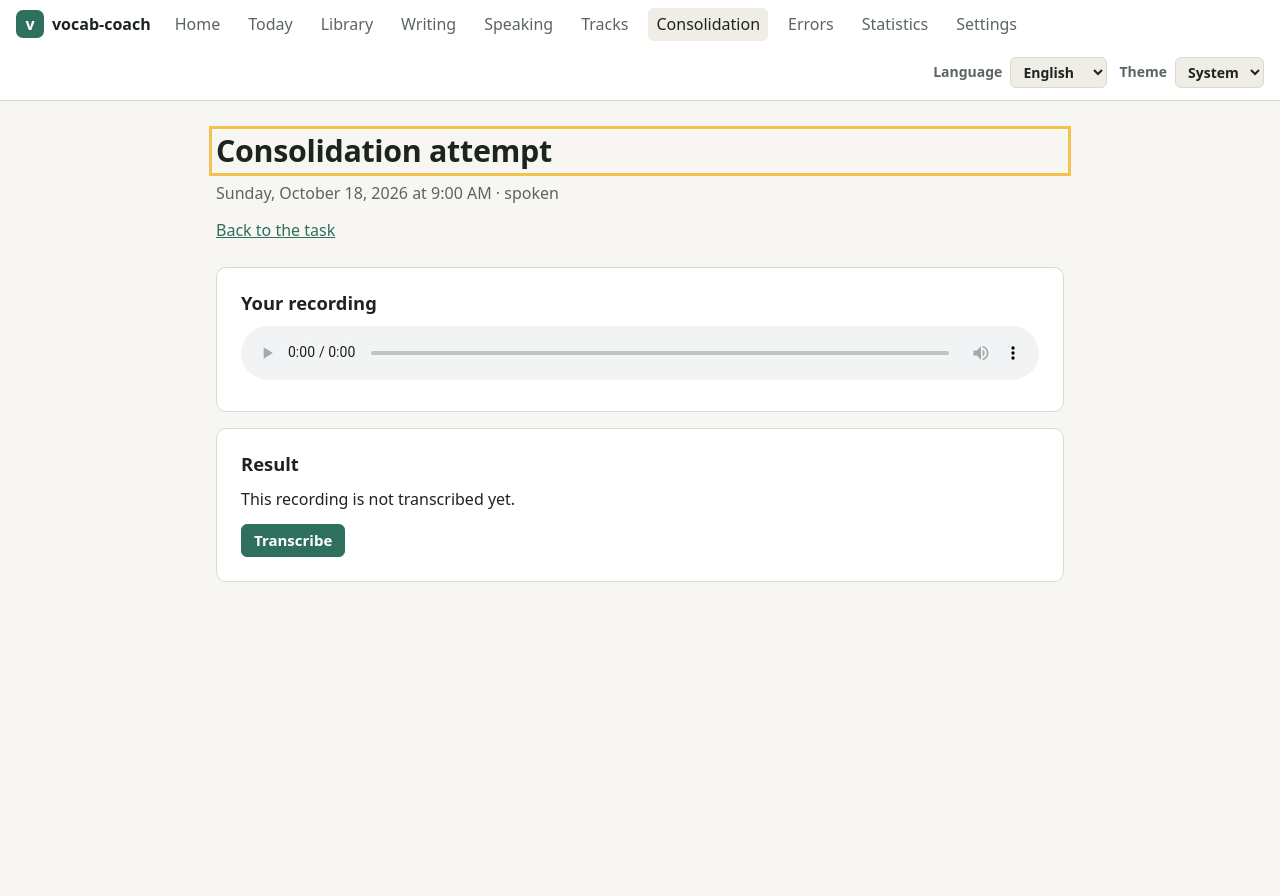
Test: Consolidation attempt page › transcribes a recording that has no text yet, then corrects
Click the button "Transcribe". click: (293, 540)
box: [241,524,345,557]
(page scrolled)
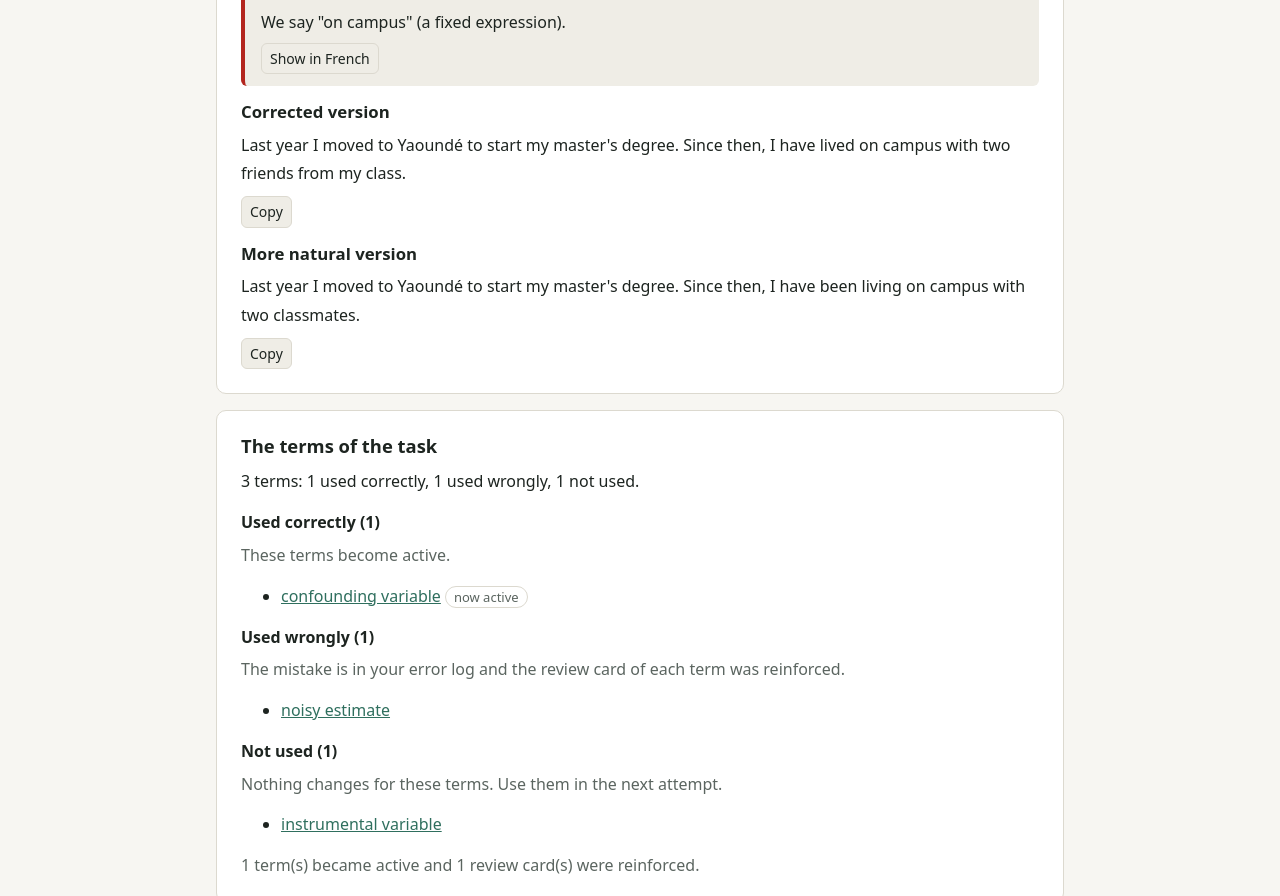
Expected: the heading "The terms of the task" is shown, [241,433,437,458]
